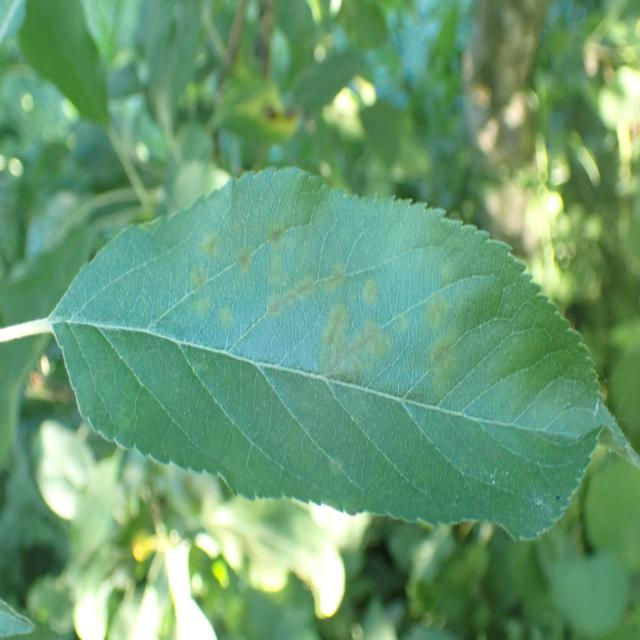scab: (106, 170, 560, 541)
